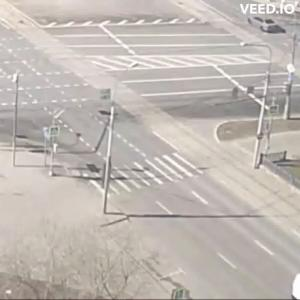car: (249, 18, 279, 37)
